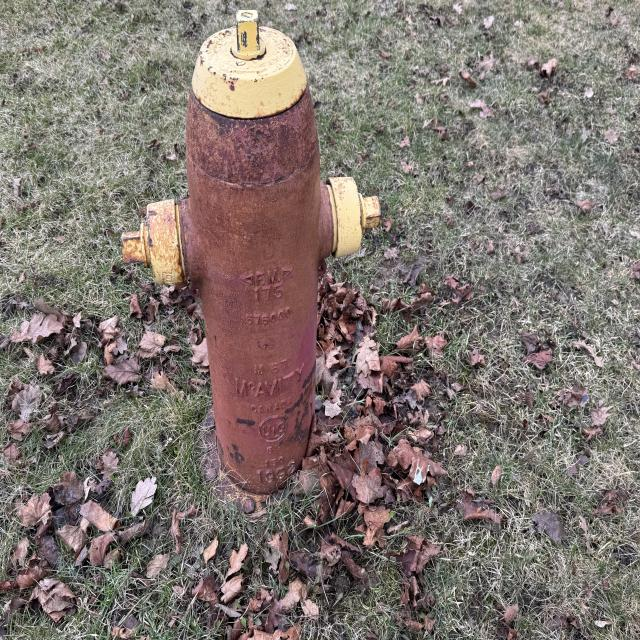Fire hydrant: (119, 8, 384, 520)
